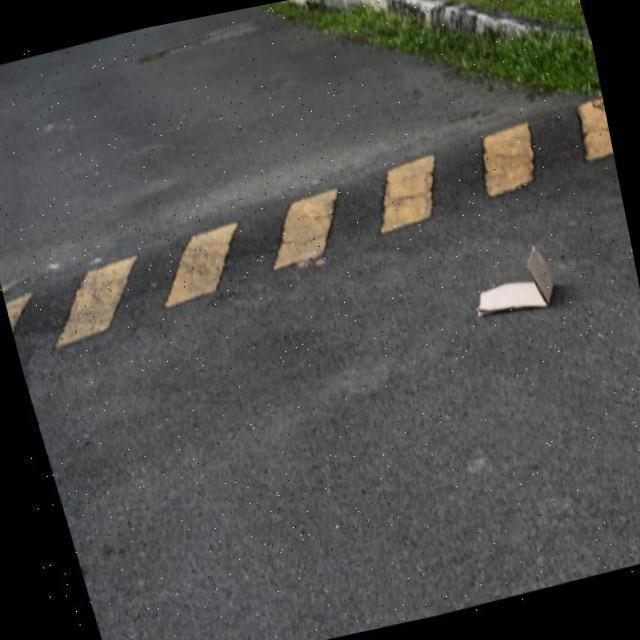Paper_Bag: (457, 244, 558, 329)
